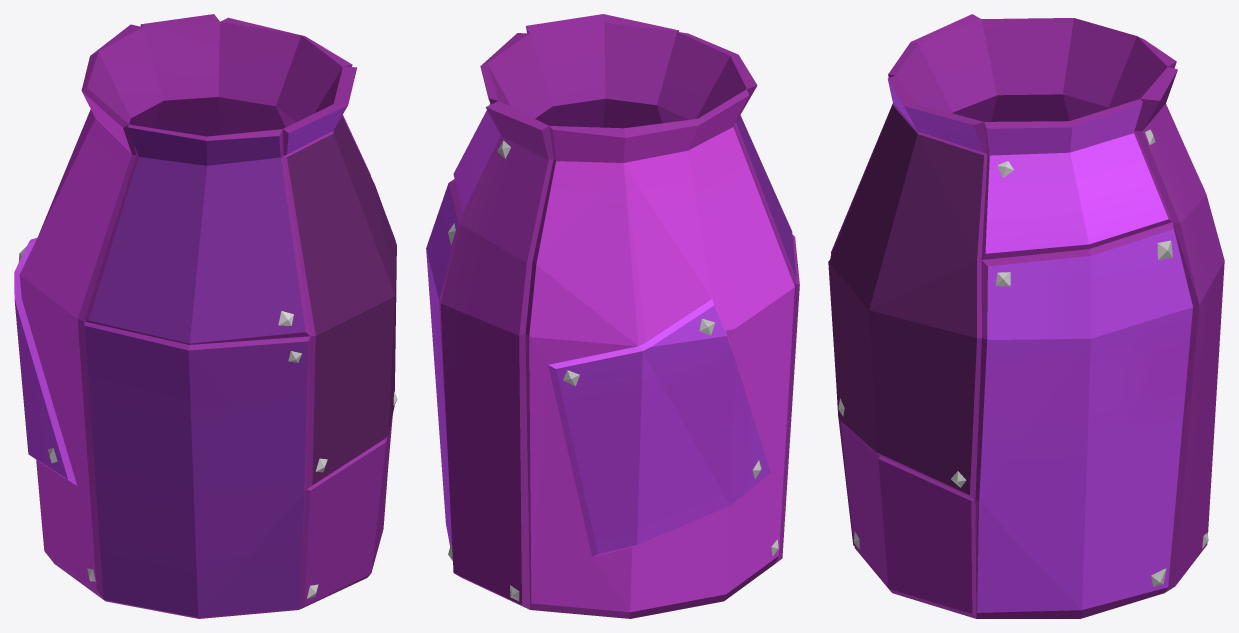
File: obj_vase01_hard.gltf
3 views of the same model, side by side, from view 1: azimuth 30°, elevation 25°; view 2: azimuth 150°, elevation 25°; view 3: azimuth 270°, elevation 25° (orthographic).
Parts seen in each view (by area): view 1: obj_vase01_hard; view 2: obj_vase01_hard; view 3: obj_vase01_hard.
Boxes of the visible parts, bbox=[...] form: obj_vase01_hard: bbox=[14, 14, 397, 618]; obj_vase01_hard: bbox=[426, 14, 799, 618]; obj_vase01_hard: bbox=[828, 14, 1224, 618].
Size of what is drawn, in the model's own units: 0.3754 by 0.531 by 0.3946.
Materials: 1 (1 with a texture image).
